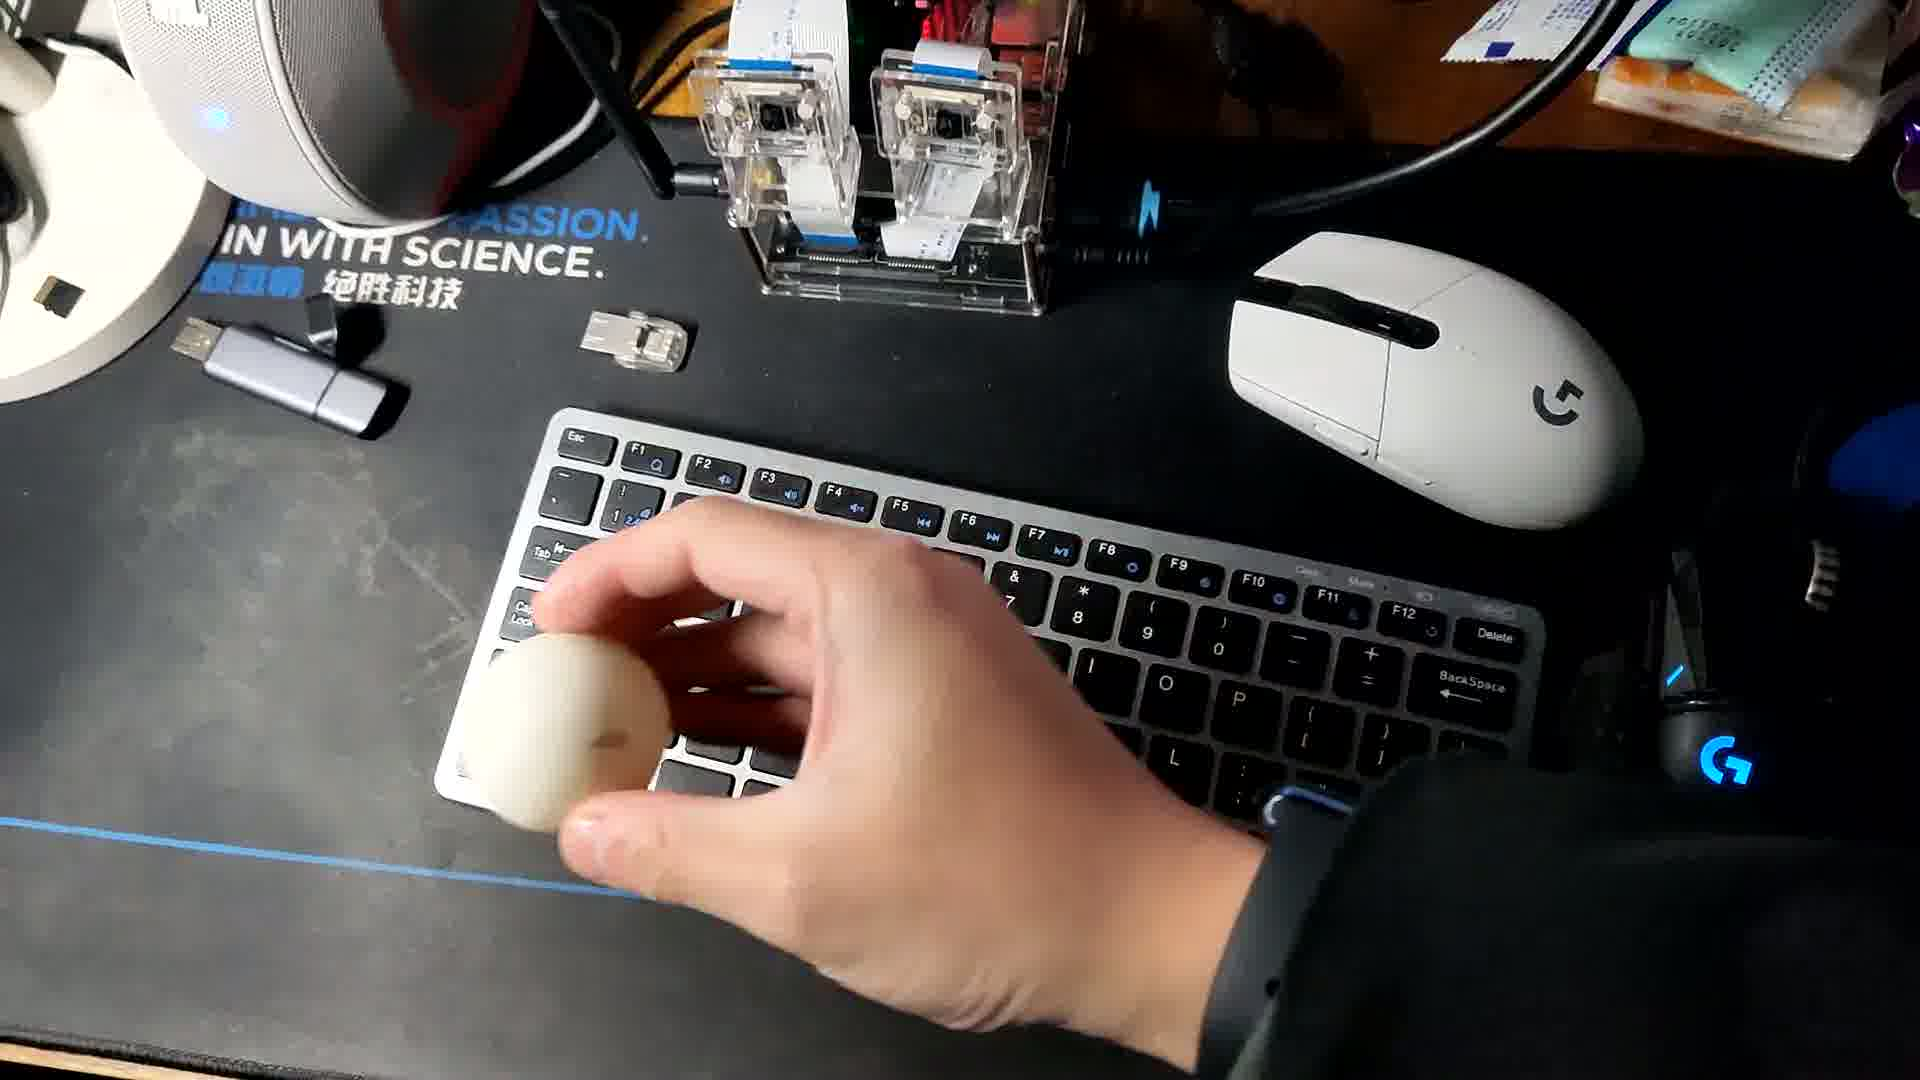Ball: (467, 636, 670, 835)
